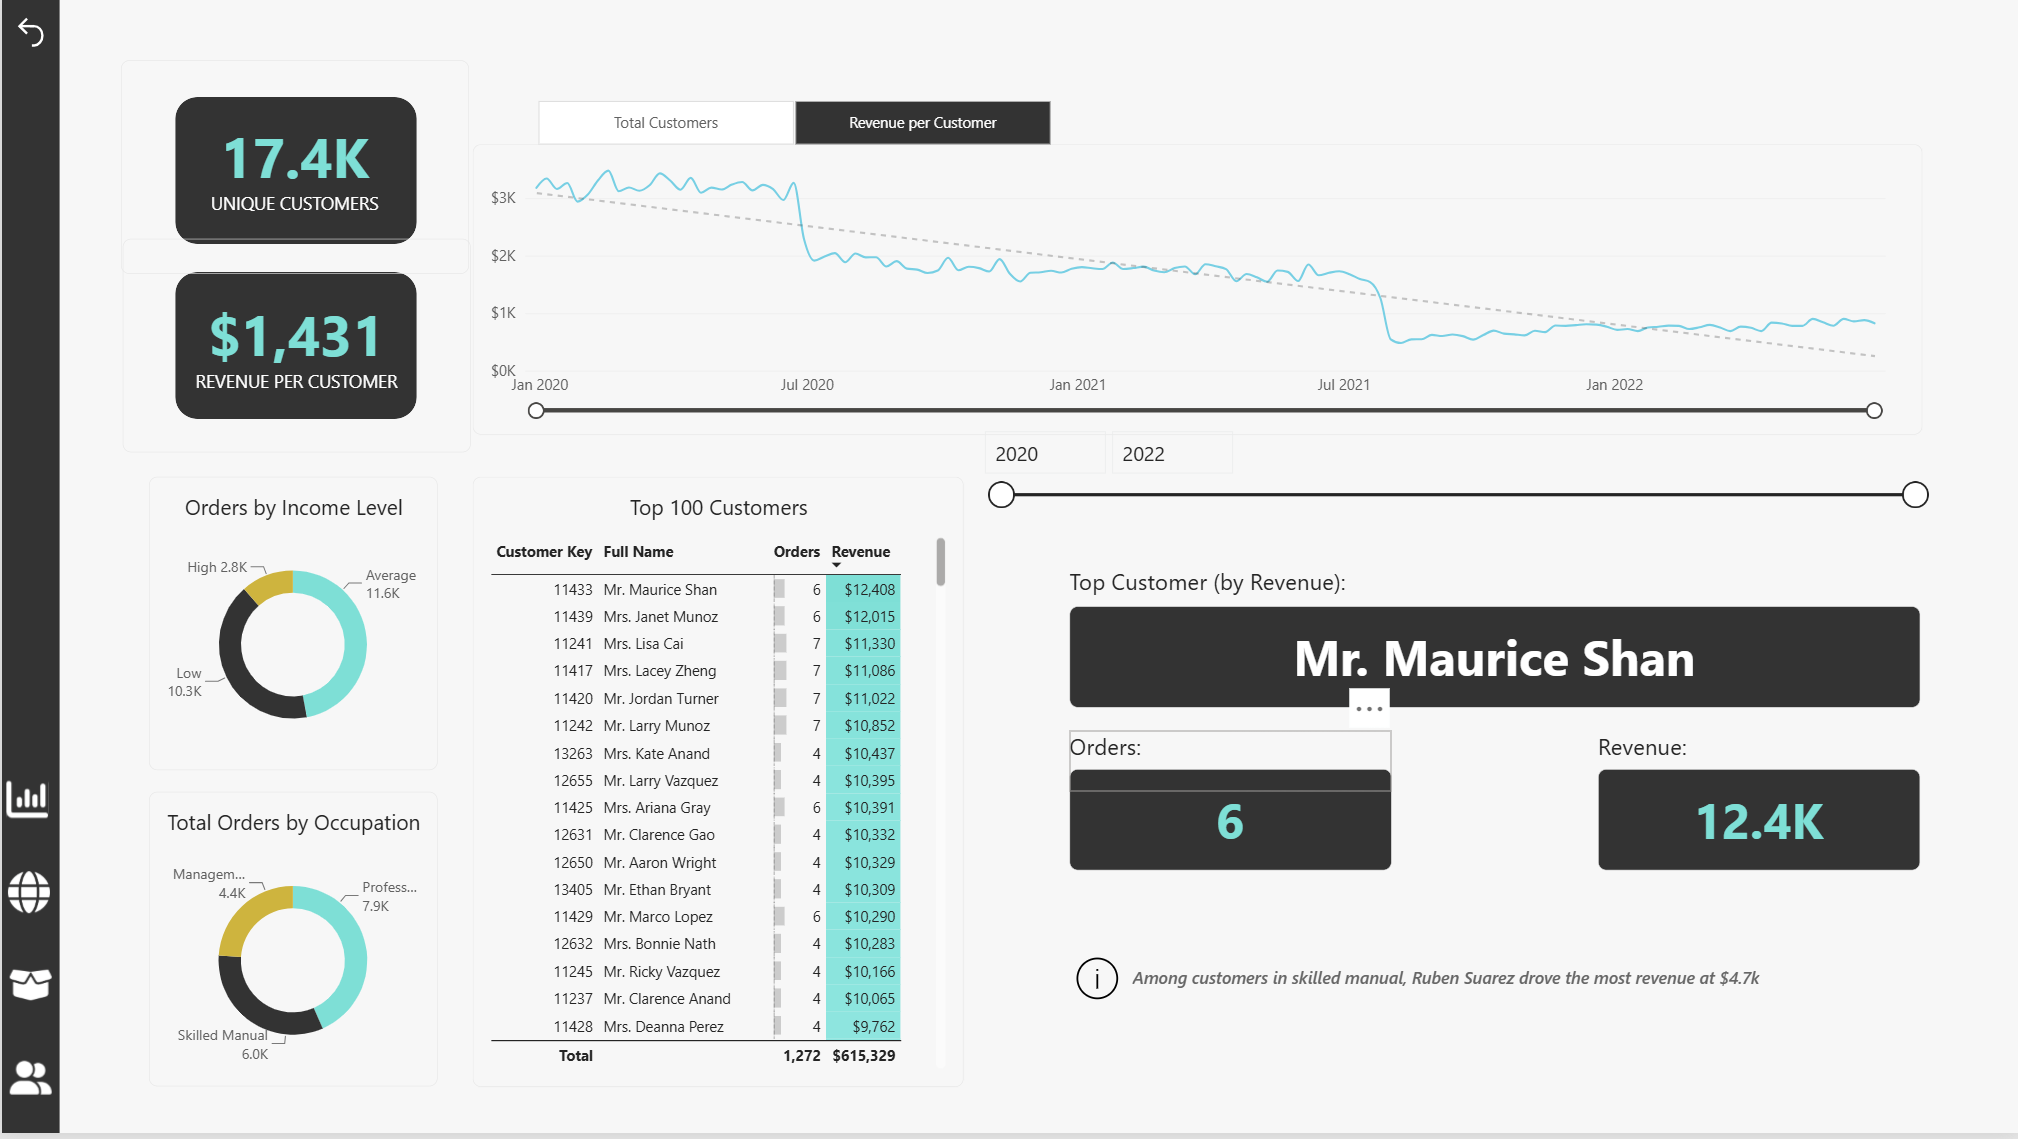

The page's visual inventory and layout, read from the dashboard file:
{"tool":"powerbi","page":{"name":"Customer Detail","canvas":[1920,1080],"ordinal":3},"visuals":[{"type":"shape","title":"Left Nav Background","box":[0,0,55,1080],"z":0},{"type":"shape","box":[164.7,260.9,230,140],"z":0,"group":"g1"},{"type":"actionButton","box":[0,718.3,73.3,88.3],"z":0,"group":"g2"},{"type":"group","id":"g1","title":"Group 1","box":[164.7,93.9,230.6,307],"z":1000},{"type":"shape","box":[165.3,93.9,230,140],"z":1000,"group":"g1"},{"type":"actionButton","box":[3.3,895,73.3,88.3],"z":1000,"group":"g2"},{"type":"card","fields":{"Values":["Measure Table.Total Customers"]},"box":[113.4,57.7,331.7,203.3],"z":2000},{"type":"actionButton","box":[1.7,806.6,73.3,88.3],"z":2000,"group":"g2"},{"type":"card","fields":{"Values":["Measure Table.Average Revenue per Customer"]},"box":[115.3,228.7,331.7,203.3],"z":3000},{"type":"actionButton","box":[3.3,983.3,73.3,88.3],"z":3000,"group":"g2"},{"type":"lineChart","title":"Weekly Customers","fields":{"Category":["Calendar Lookup.Date Heirarchy.Start of Year","Calendar Lookup.Date Heirarchy.Start of Month","Calendar Lookup.Date Heirarchy.Start of Week","Calendar Lookup.Date Heirarchy.Date"],"Y":["Measure Table.Average Revenue per Customer"]},"box":[447.7,138.4,1380.5,276.7],"z":4000},{"type":"donutChart","title":"Orders by Income Level","fields":{"Category":["Customer Lookup.Income Level"],"Y":["Measure Table.Total Orders"]},"box":[140.3,454.9,274.9,279.2],"z":5000},{"type":"donutChart","title":"Total Orders by Occupation","fields":{"Category":["Customer Lookup.Occupation"],"Y":["Measure Table.Total Orders"]},"box":[140.3,755.3,274.9,280.6],"z":6000},{"type":"tableEx","title":"Top 100 Customers","fields":{"Values":["Customer Lookup.CustomerKey","Customer Lookup.Full Name","Measure Table.Total Orders","Measure Table.Total Revenue"]},"box":[447.8,454.9,467.6,581],"z":7000},{"type":"card","fields":{"Values":["Measure Table.Full Name (Customer Detail)"]},"box":[1016.7,578.3,810,96.7],"z":8000},{"type":"card","fields":{"Values":["Measure Table.Total Revenue (Customer Detail)"]},"box":[1520,733.3,306.7,96.7],"z":9000},{"type":"card","fields":{"Values":["Measure Table.Total Order (Customer Detail)"]},"box":[1016.7,733.3,306.7,96.7],"z":10000},{"type":"textbox","box":[1016.7,540,503,150],"z":11000},{"type":"textbox","box":[1520,696.7,318.3,58.3],"z":12000},{"type":"textbox","box":[1016.7,696.7,306.7,58.3],"z":13000},{"type":"slicer","fields":{"Values":["Calendar Lookup.Year"]},"box":[928.3,406.7,910,133.3],"z":14000},{"type":"actionButton","box":[1016.7,880,870,105],"z":15000},{"type":"actionButton","box":[0,0,55,63.3],"z":16000},{"type":"group","id":"g2","title":"Navigation Buttons","box":[0,718.3,76.7,353.3],"z":17000},{"type":"slicer","fields":{"Values":["Customer Metric Selection.Customer Metric Selection"]},"box":[490,94.4,527.4,45.6],"z":18000}]}

Visuals, with their boxes on the page's 1920x1080 design canvas (x1, y1, x2, y2). These are canvas units, not pixel positions in the 2018x1139 screenshot, which may show the page scaled, cropped or inside an application window:
"Left Nav Background" shape: 0/0/55/1080
shape: 165/261/395/401
actionButton: 0/718/73/807
"Group 1" group: 165/94/395/401
shape: 165/94/395/234
actionButton: 3/895/77/983
card - Measure Table.Total Customers: 113/58/445/261
actionButton: 2/807/75/895
card - Measure Table.Average Revenue per Customer: 115/229/447/432
actionButton: 3/983/77/1072
"Weekly Customers" lineChart: 448/138/1828/415
"Orders by Income Level" donutChart: 140/455/415/734
"Total Orders by Occupation" donutChart: 140/755/415/1036
"Top 100 Customers" tableEx: 448/455/915/1036
card - Measure Table.Full Name (Customer Detail): 1017/578/1827/675
card - Measure Table.Total Revenue (Customer Detail): 1520/733/1827/830
card - Measure Table.Total Order (Customer Detail): 1017/733/1323/830
textbox: 1017/540/1520/690
textbox: 1520/697/1838/755
textbox: 1017/697/1323/755
slicer - Calendar Lookup.Year: 928/407/1838/540
actionButton: 1017/880/1887/985
actionButton: 0/0/55/63
"Navigation Buttons" group: 0/718/77/1072
slicer - Customer Metric Selection.Customer Metric Selection: 490/94/1017/140
